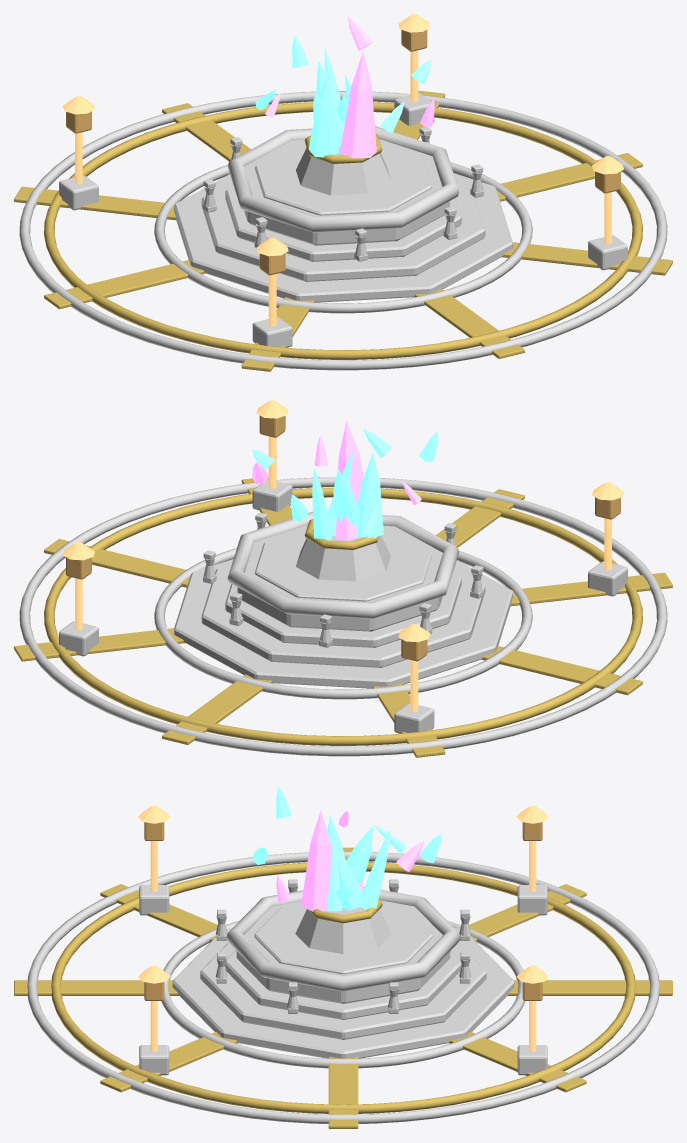
File: 12_Fonte.fbx
The picture shows the model from 3 angles, top to bottom: view 1: azimuth 30°, elevation 25°; view 2: azimuth 150°, elevation 25°; view 3: azimuth 270°, elevation 25°; orthographic projection. The views are drawn at different scales.
Visible parts, largest first — view 1: Ft_Anel156, Ft_Anel144, Ft_Deg0, Ft_Deg1, Ft_BordaB, Ft_Interna, Ft_Anel90, Ft_Bacia, Ft_Deg2, Ft_Ped, Ft_Cri4, Ft_Raio6 (+13 smaller); view 2: Ft_Anel156, Ft_Anel144, Ft_Deg0, Ft_Deg1, Ft_BordaB, Ft_Interna, Ft_Anel90, Ft_Bacia, Ft_Deg2, Ft_Ped, Ft_Raio6, Ft_Raio0 (+14 smaller); view 3: Ft_Anel156, Ft_Anel144, Ft_Deg0, Ft_Deg1, Ft_BordaB, Ft_Interna, Ft_Anel90, Ft_Deg2, Ft_Bacia, Ft_Ped, Ft_Cri4, Ft_Raio0 (+15 smaller).
Part boxes in pixels (left/top/right/bottom): Ft_Anel156: left=19, top=91, right=667, bottom=370; Ft_Anel144: left=44, top=102, right=642, bottom=359; Ft_Deg0: left=174, top=173, right=512, bottom=302; Ft_Deg1: left=201, top=177, right=485, bottom=281; Ft_BordaB: left=227, top=126, right=459, bottom=232; Ft_Interna: left=255, top=142, right=431, bottom=215; Ft_Anel90: left=154, top=162, right=532, bottom=313; Ft_Bacia: left=244, top=139, right=449, bottom=245; Ft_Deg2: left=225, top=186, right=461, bottom=261; Ft_Ped: left=296, top=147, right=390, bottom=195; Ft_Cri4: left=340, top=51, right=376, bottom=158; Ft_Raio6: left=44, top=260, right=205, bottom=309; Ft_Anel156: left=19, top=477, right=667, bottom=756; Ft_Anel144: left=44, top=487, right=642, bottom=745; Ft_Deg0: left=174, top=559, right=512, bottom=688; Ft_Deg1: left=201, top=563, right=485, bottom=667; Ft_BordaB: left=227, top=511, right=459, bottom=618; Ft_Interna: left=255, top=528, right=431, bottom=601; Ft_Anel90: left=154, top=548, right=532, bottom=699; Ft_Bacia: left=237, top=525, right=442, bottom=631; Ft_Deg2: left=225, top=572, right=461, bottom=647; Ft_Ped: left=296, top=531, right=390, bottom=581; Ft_Raio6: left=481, top=646, right=642, bottom=695; Ft_Raio0: left=162, top=674, right=272, bottom=744; Ft_Anel156: left=27, top=851, right=659, bottom=1123; Ft_Anel144: left=51, top=862, right=635, bottom=1113; Ft_Deg0: left=172, top=928, right=514, bottom=1058; Ft_Deg1: left=200, top=942, right=486, bottom=1039; Ft_BordaB: left=226, top=887, right=460, bottom=991; Ft_Interna: left=254, top=903, right=432, bottom=974; Ft_Anel90: left=161, top=920, right=525, bottom=1068; Ft_Deg2: left=225, top=950, right=461, bottom=1019; Ft_Bacia: left=236, top=900, right=450, bottom=1003; Ft_Ped: left=295, top=906, right=391, bottom=954; Ft_Cri4: left=301, top=810, right=331, bottom=911; Ft_Raio0: left=508, top=980, right=672, bottom=995.
Bounding box in the file's own units: 4290 × 1339 × 4290.
